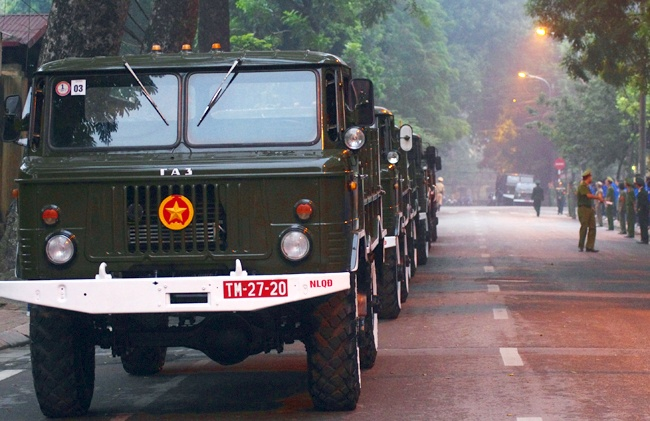plate: (219, 276, 288, 303)
